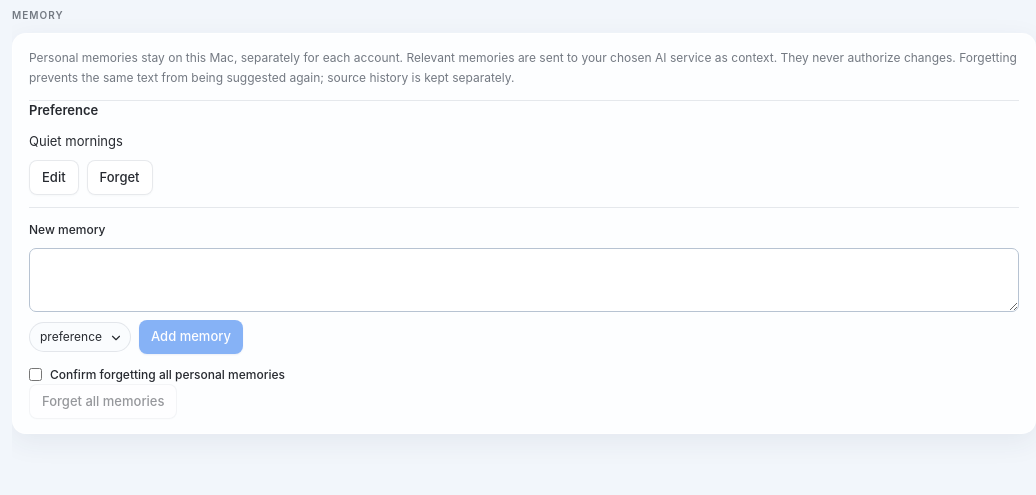
Test case: keeps errors beside affected memory
Click the button "Forget": (120, 177) [87,160,153,195]
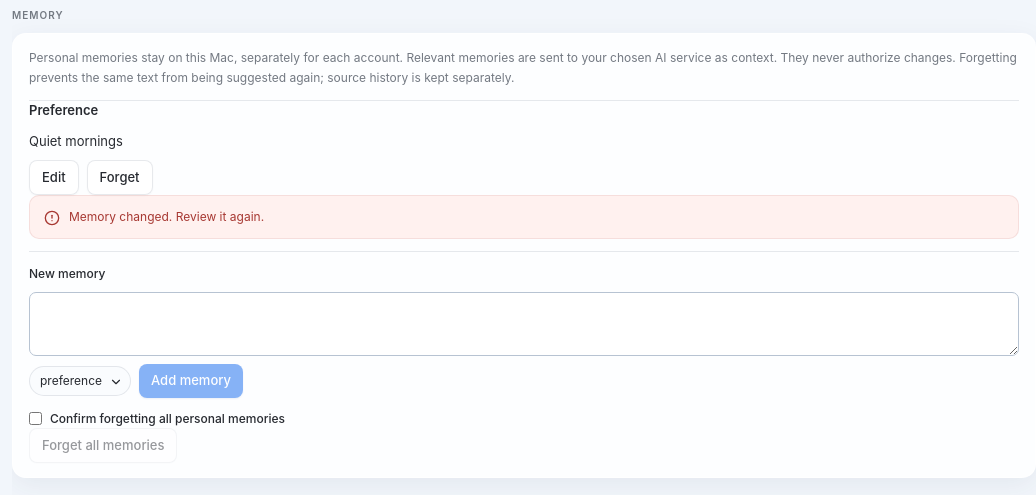
expect the message shows "Memory changed": met, box [69,209,264,224]
